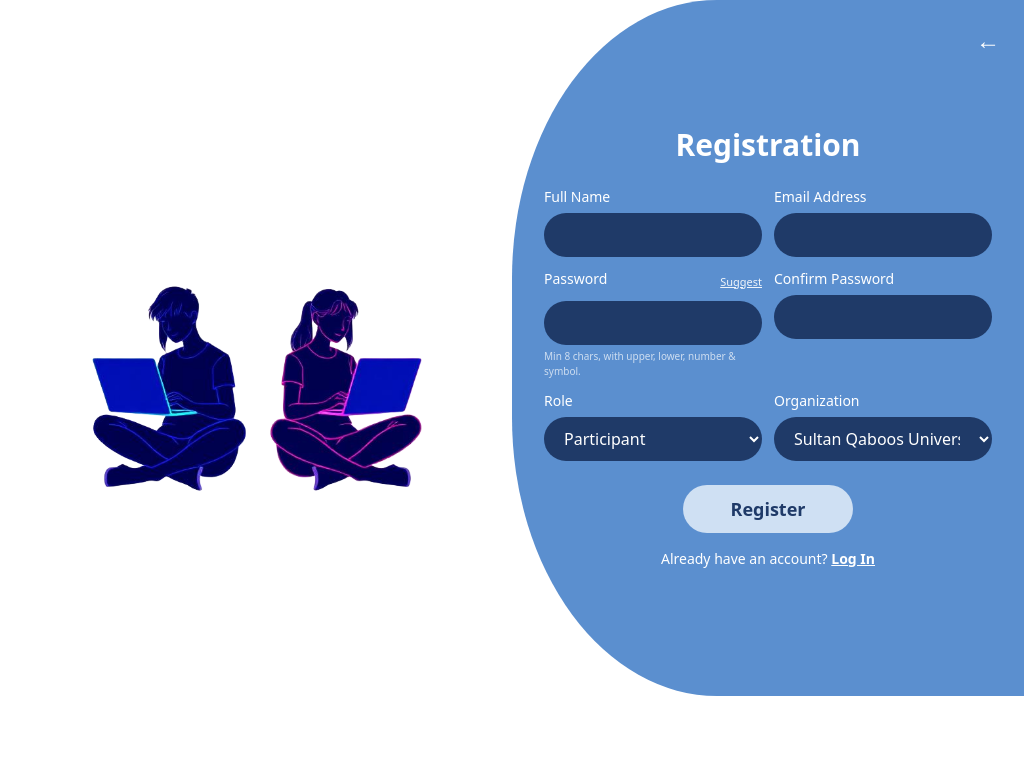
Test: Register page › rejects weak password (short1!A)
In the field below "Full Name": (653, 235) [544, 213, 762, 257], type "Khadija"
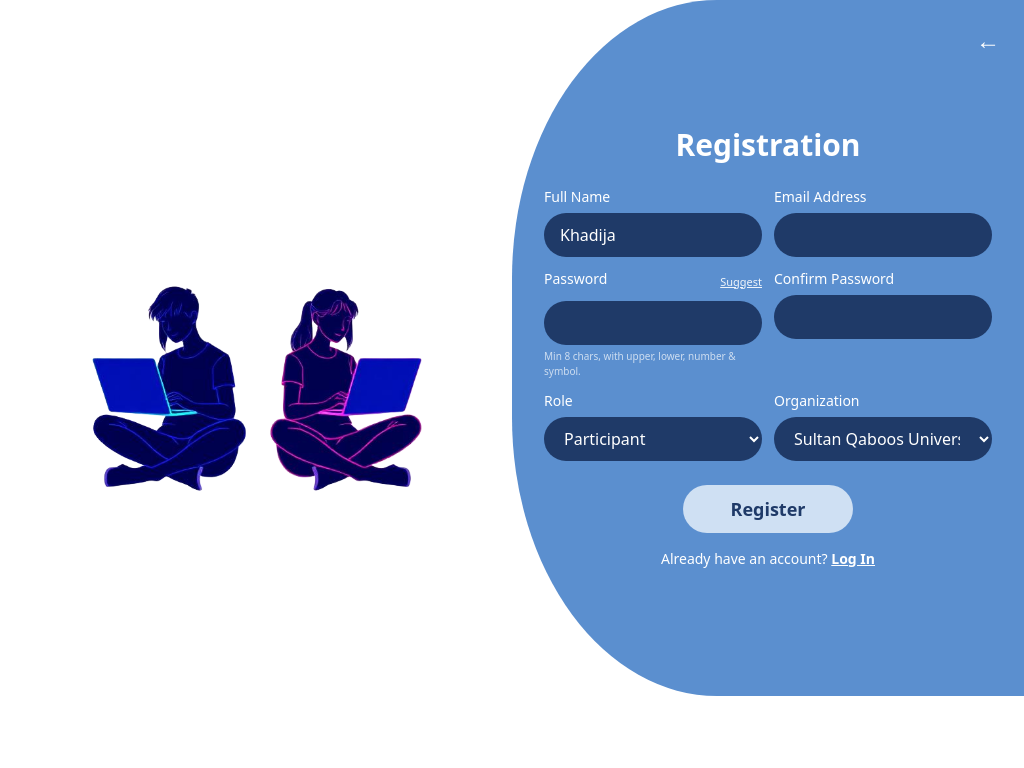
In the field below "Email Address": (883, 235) [774, 213, 992, 257], type "khadija@gmail.com"
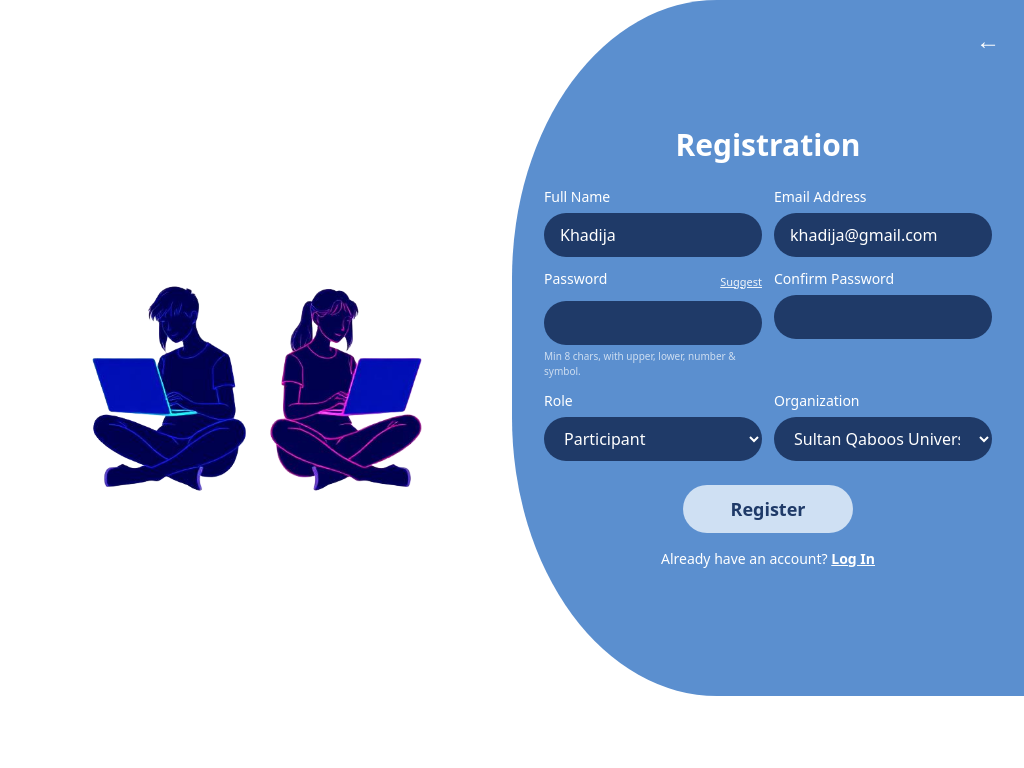
In the 1st password field: (653, 323) [544, 301, 762, 345], type "Short1!"
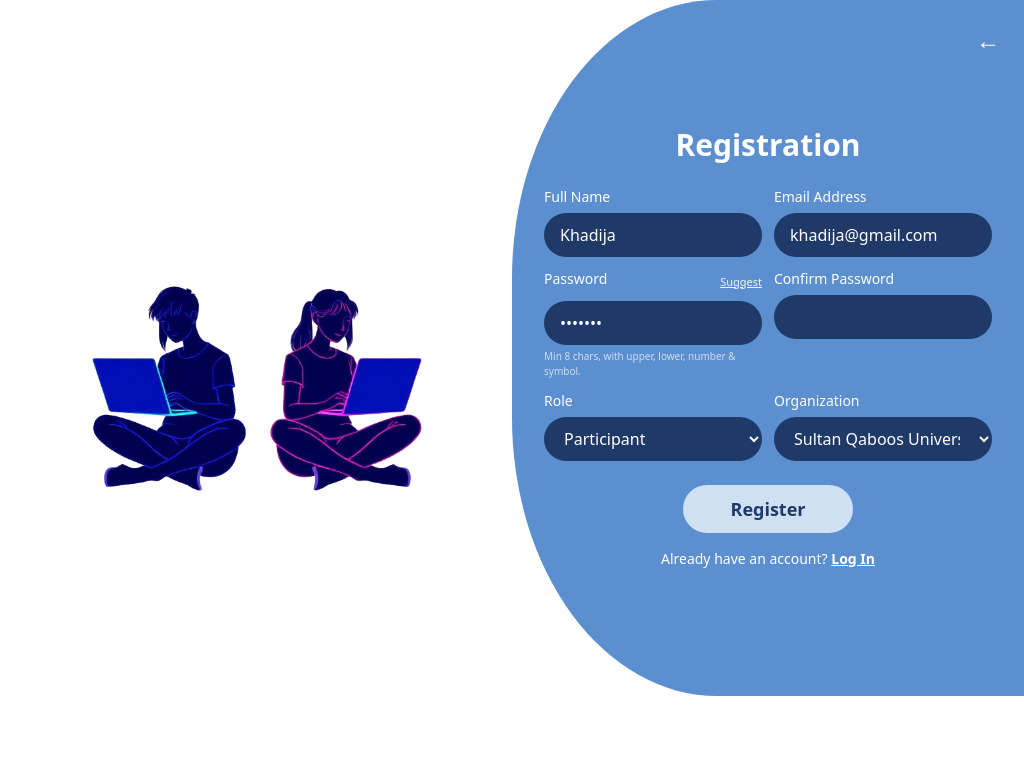
In the password field below "Confirm Password": (883, 317) [774, 295, 992, 339], type "Short1!"
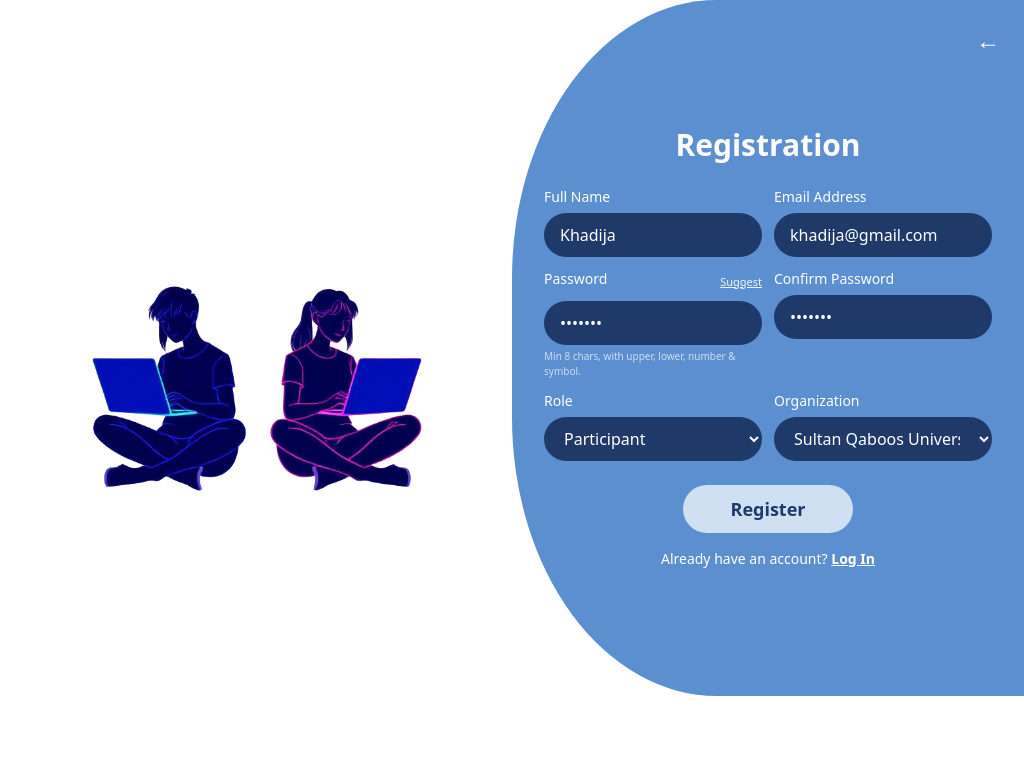
Submit the form, box [544, 103, 992, 593]
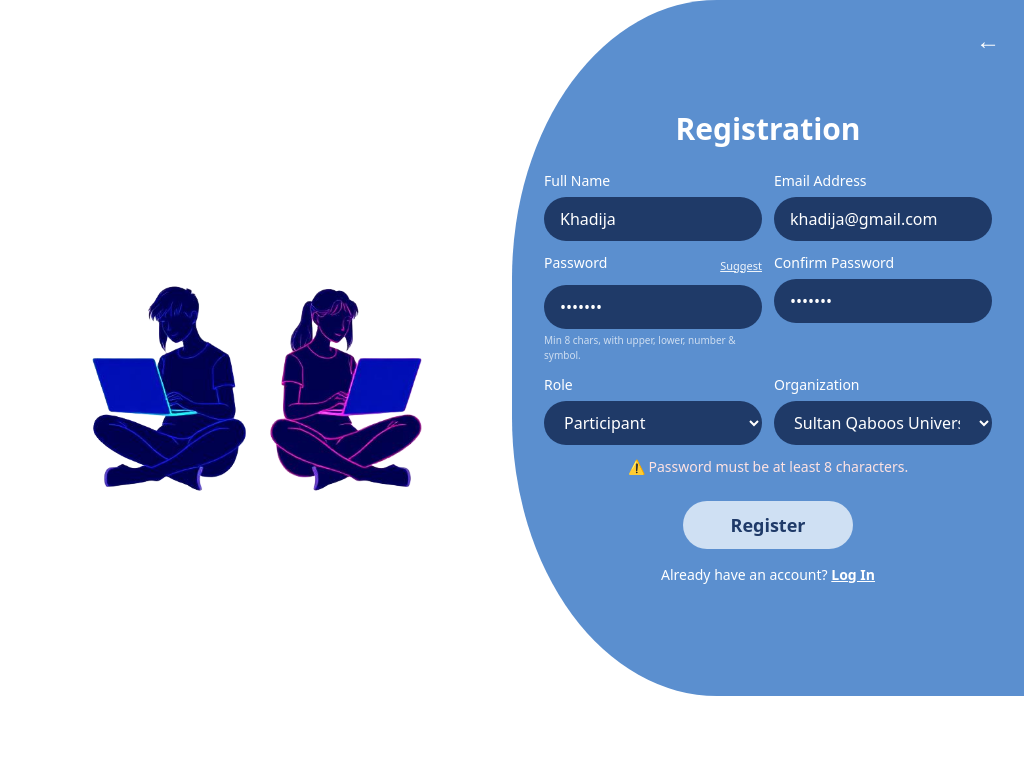
Result: the text "⚠️ Password must be at least 8 characters." is shown at [628, 457, 908, 476]
